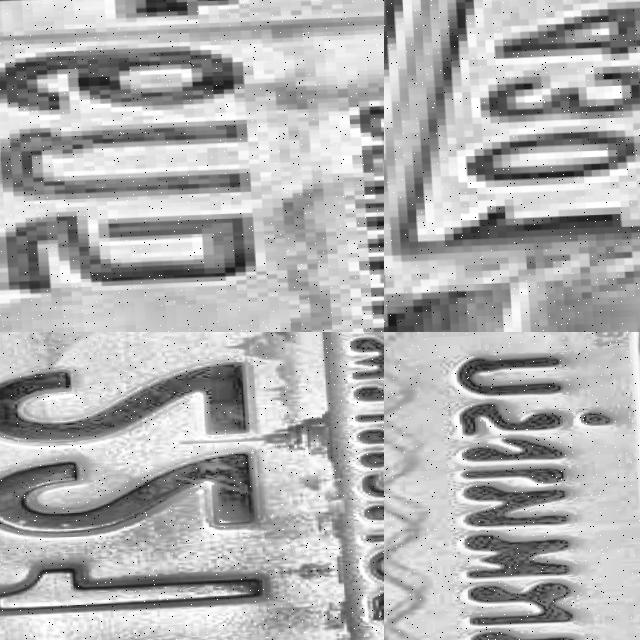license-plate: (0, 0, 384, 332), (0, 332, 384, 640), (384, 0, 640, 326), (384, 332, 640, 640)
